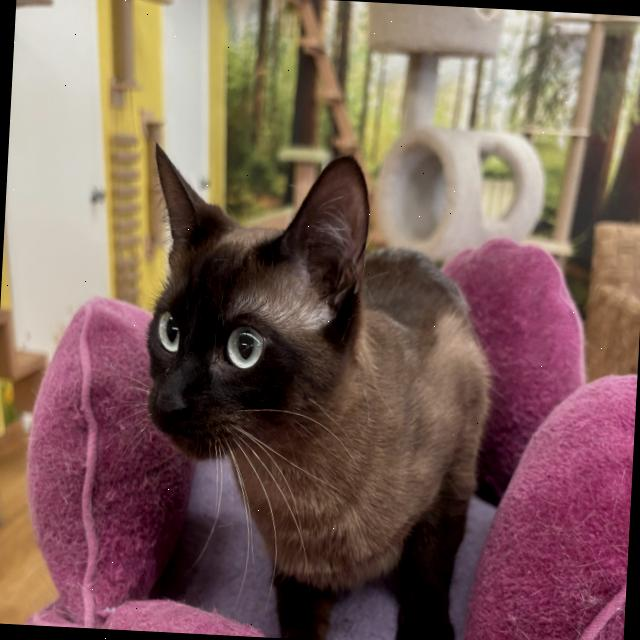siamese_cat: (130, 121, 388, 512)
